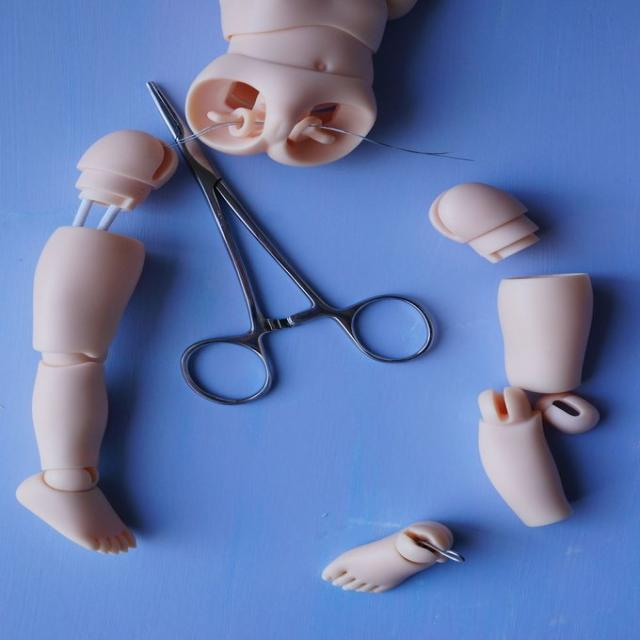scissors: (145, 80, 435, 405)
